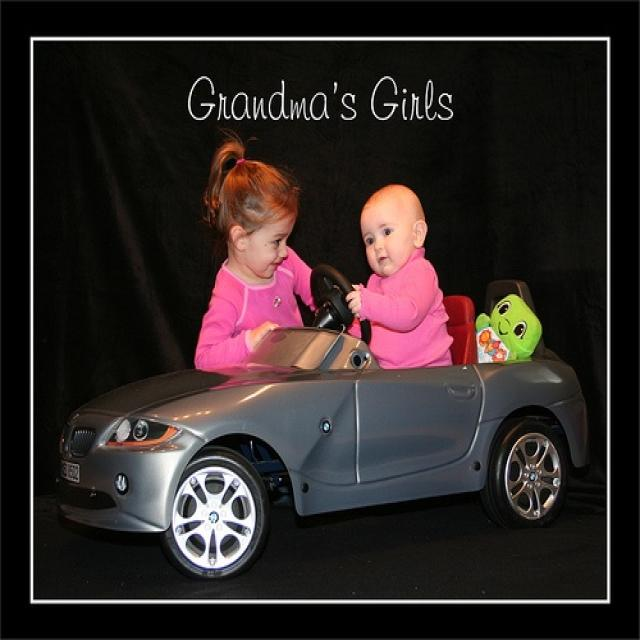light_vehicle: (52, 258, 594, 584)
